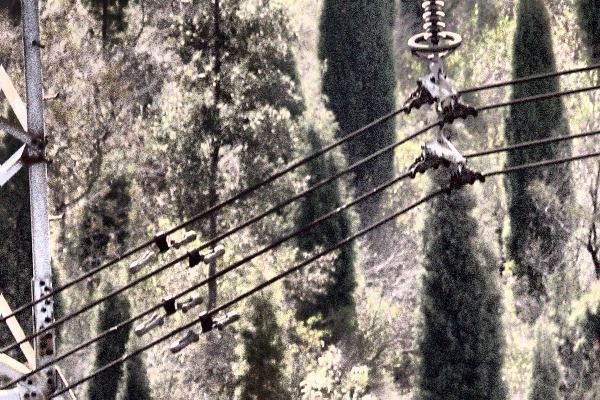damper: (125, 228, 199, 275), (132, 290, 204, 337), (168, 309, 241, 354)
damper_defect: (179, 244, 228, 275)
